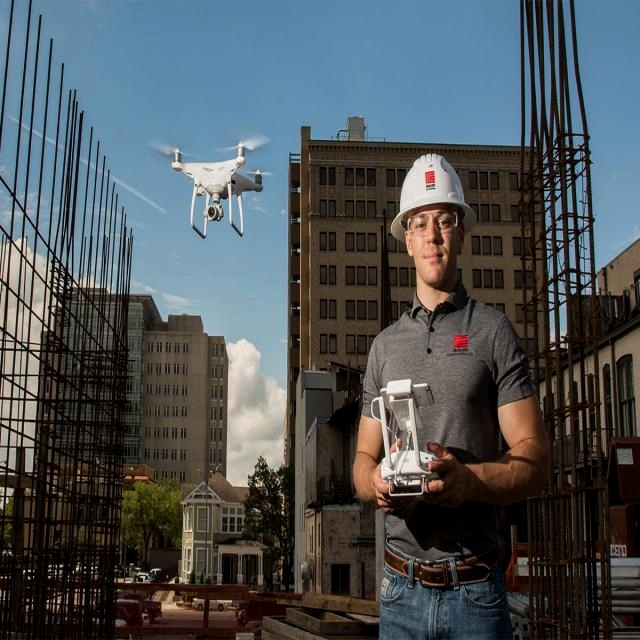goggles: (410, 210, 461, 234)
helmet: (394, 153, 471, 218)
